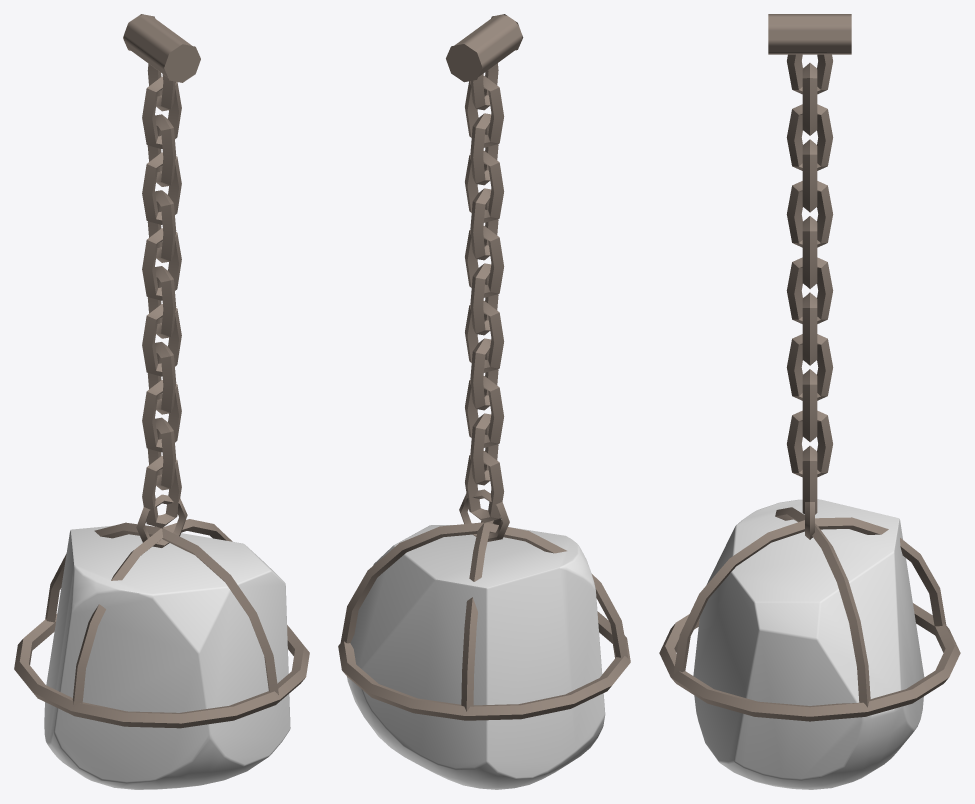
File: mover_pendulum_b.glb
3 renders of one model, left to right at view 1: azimuth 30°, elevation 25°; view 2: azimuth 150°, elevation 25°; view 3: azimuth 270°, elevation 25°, orthographic. The views are drawn at different scales.
Parts seen in each view (by area): view 1: mover_pendulum_b; view 2: mover_pendulum_b; view 3: mover_pendulum_b.
Part boxes in pixels (left/top/right/bottom): mover_pendulum_b: left=14, top=14, right=309, bottom=789; mover_pendulum_b: left=338, top=14, right=630, bottom=789; mover_pendulum_b: left=659, top=14, right=960, bottom=789.
Size of the model in its own units: 3.62 by 9.96 by 3.62.
